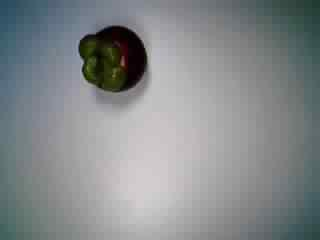mangosteen: (72, 22, 150, 98)
